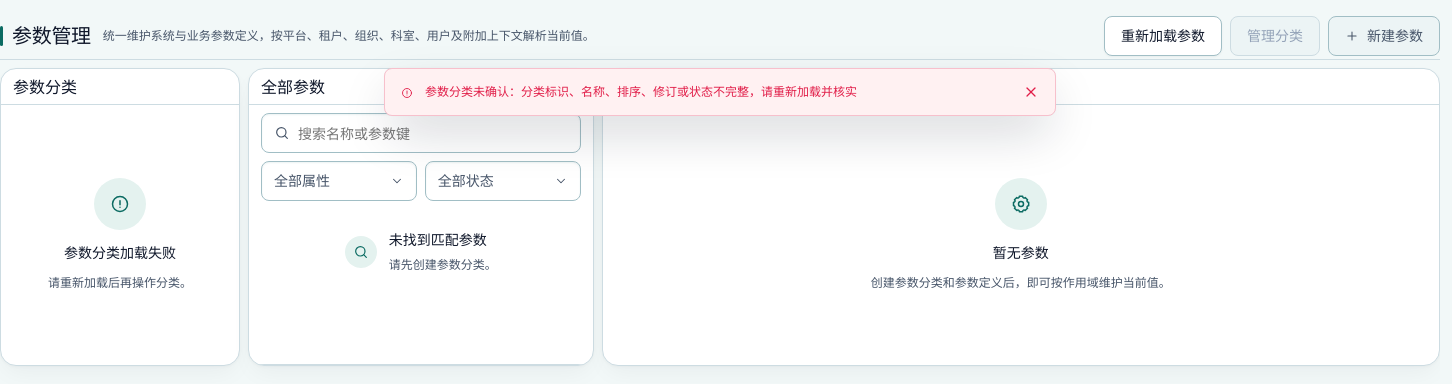
Test: ParameterManagement category write facts › blocks malformed category facts and recovers after a real reload {}
The image size is (1452, 384).
Expected: the text "参数分类加载失败" is shown, left=64, top=242, right=176, bottom=265
Expected: the button "管理分类" is disabled, left=1230, top=16, right=1320, bottom=56
Step 1. Click the button "重新加载参数" → (1163, 36), box left=1104, top=16, right=1222, bottom=56
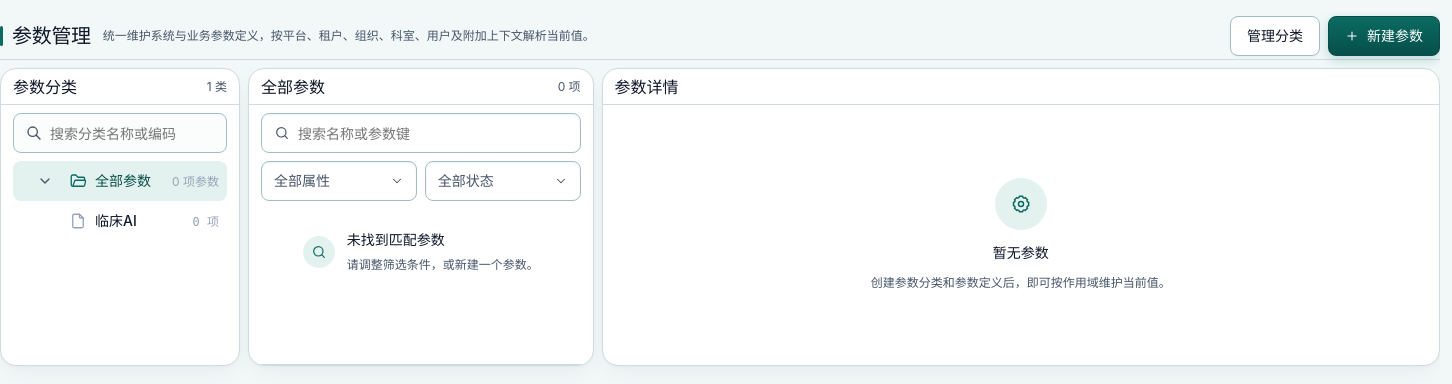
Now the list item "临床AI 0 项" is shown, box left=69, top=212, right=219, bottom=230
Now the button "管理分类" is enabled, box left=1230, top=16, right=1320, bottom=56
